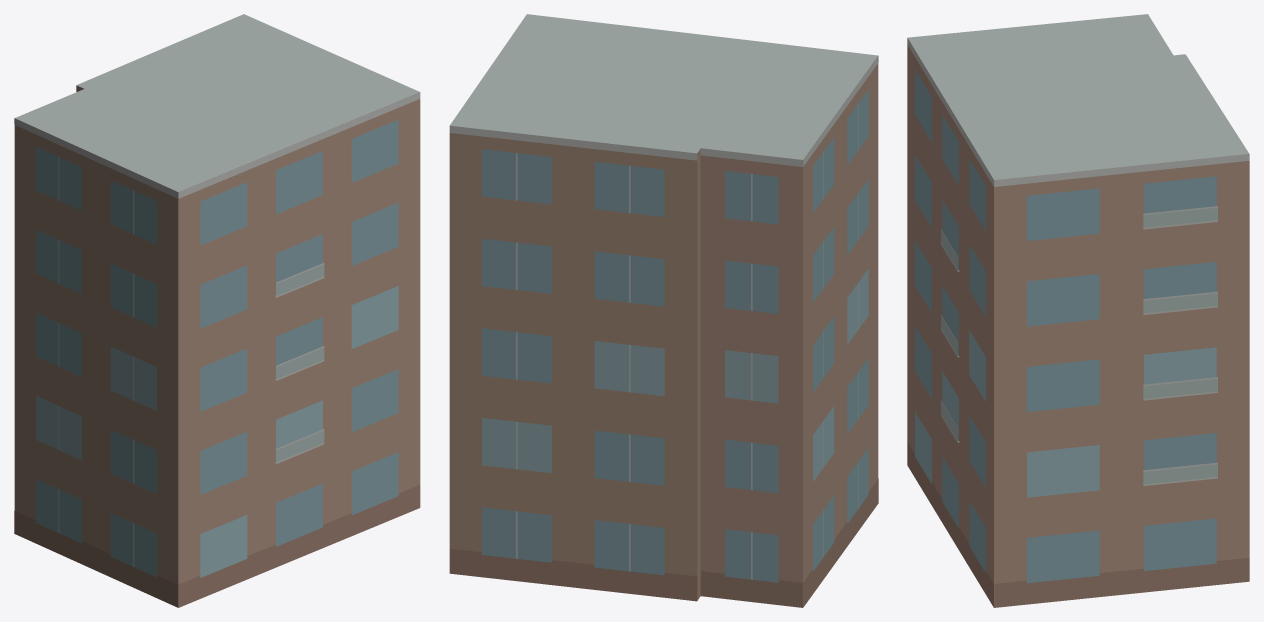
File: survey-upis-32710436.glb
3 renders of one model, left to right at view 1: azimuth 30°, elevation 25°; view 2: azimuth 150°, elevation 25°; view 3: azimuth 270°, elevation 25°, orthographic. The views are drawn at different scales.
Visible parts, largest first — view 1: survey-upis-32710436.tmp; view 2: survey-upis-32710436.tmp; view 3: survey-upis-32710436.tmp.
Boxes of the visible parts, box(x1,y1,x2,y2) form: survey-upis-32710436.tmp: box(14, 14, 420, 607); survey-upis-32710436.tmp: box(449, 14, 878, 607); survey-upis-32710436.tmp: box(907, 14, 1249, 607).
Bounding box in the file's own units: 12.72 × 15.25 × 11.07.
